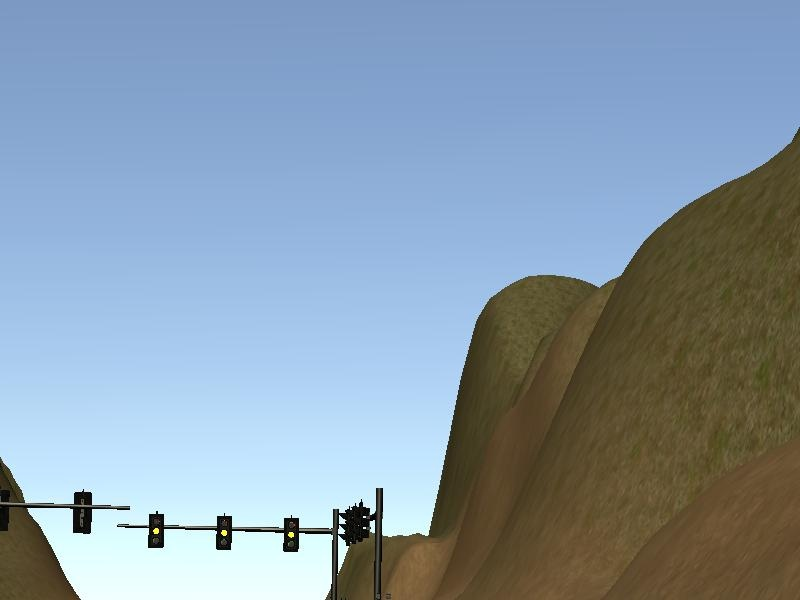yellow: (149, 514, 167, 548), (215, 516, 233, 550), (282, 519, 300, 553)
